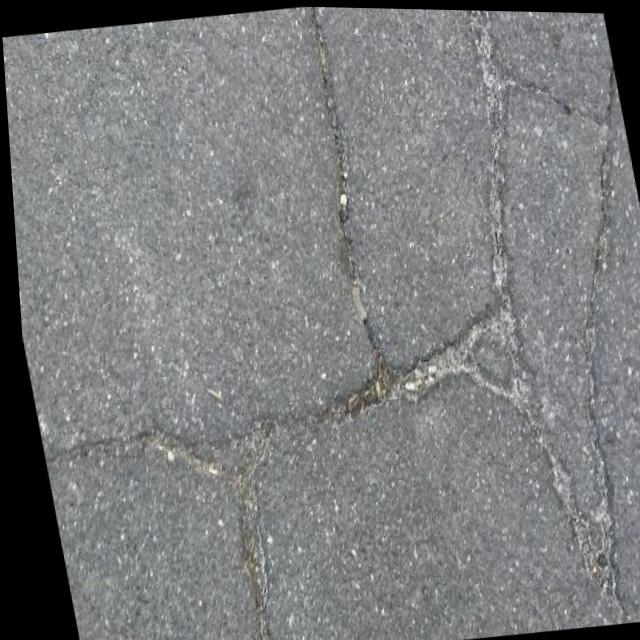Crack: (397, 7, 640, 634), (22, 324, 475, 503), (289, 5, 395, 407), (199, 402, 300, 640)
